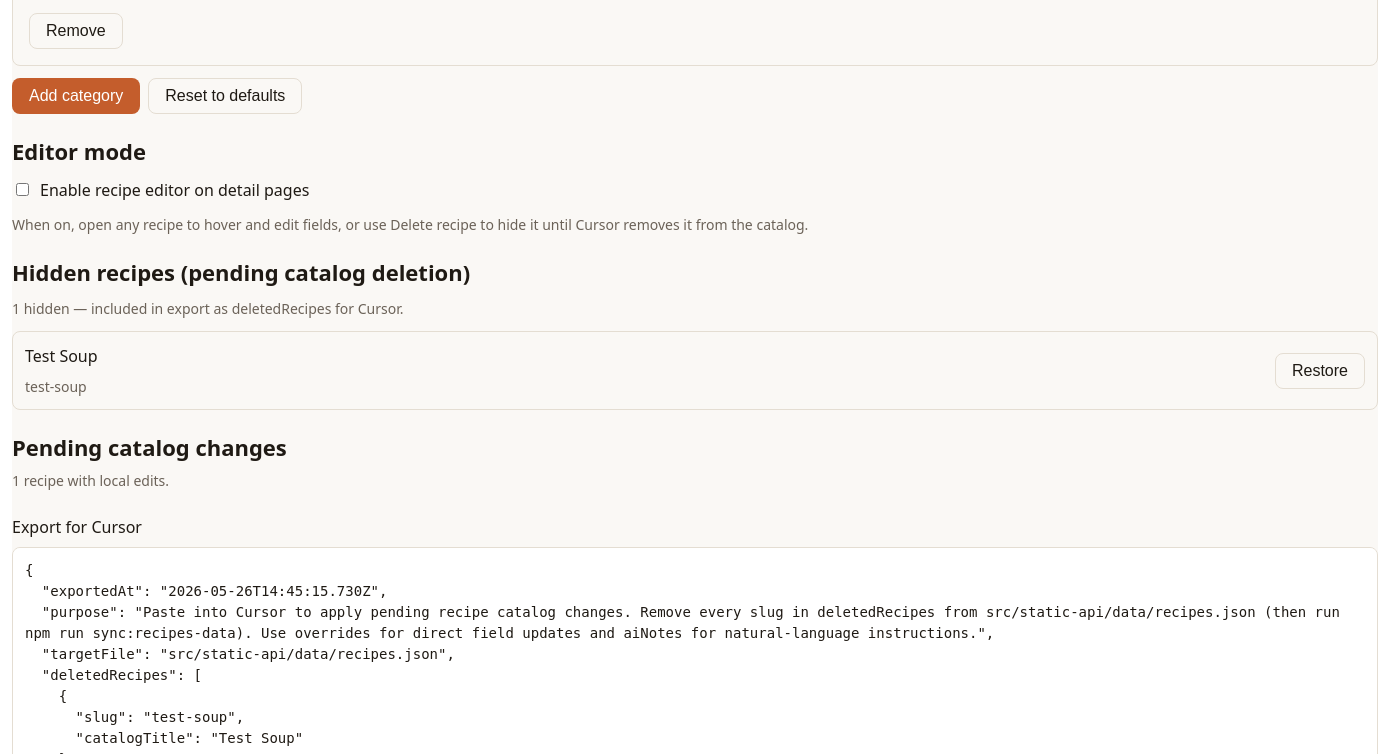
Scenario: SettingsPage › lists hidden recipes and restores them
(page scrolled)
Expected: the link "Test Soup" is shown, [25,344,98,368]
Click the button "Restore": (1320, 371) [1275,353,1365,389]
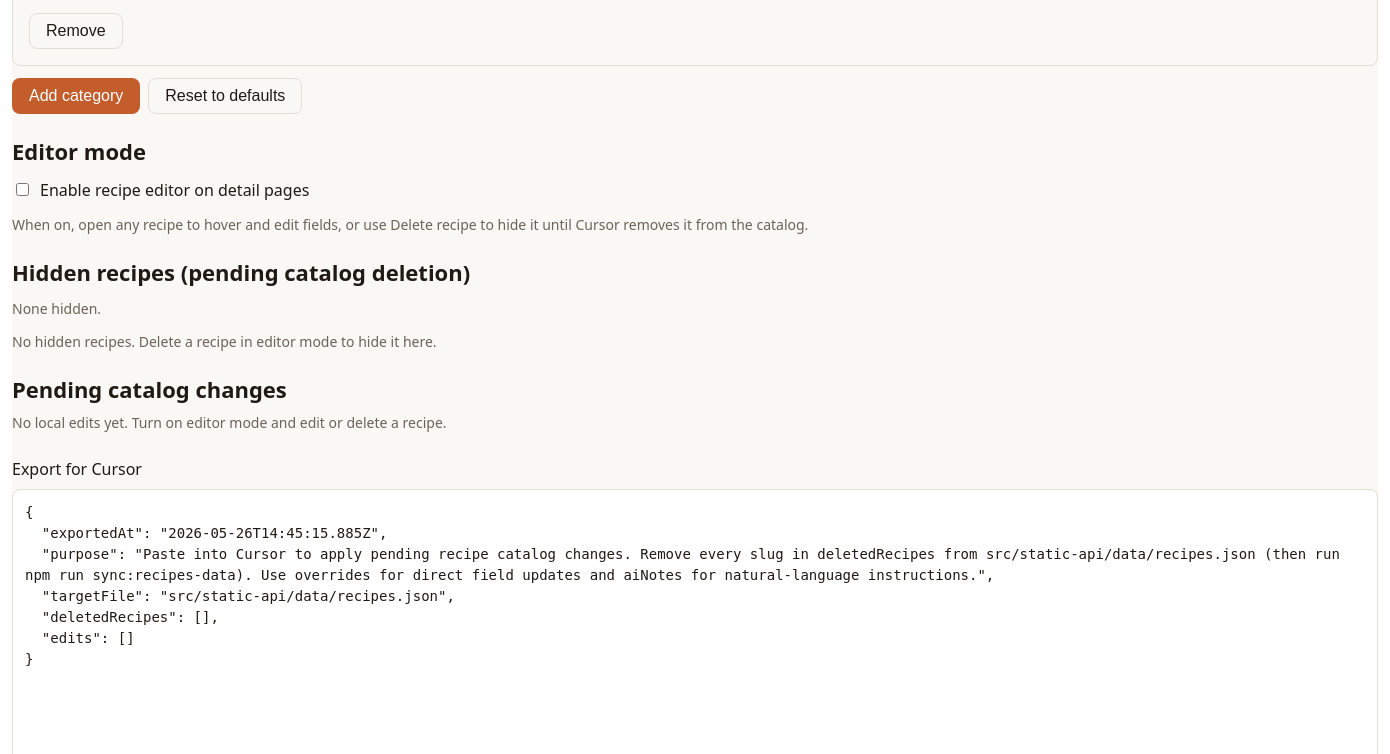
Expected: the text "None hidden." is shown, [12,299,101,318]
